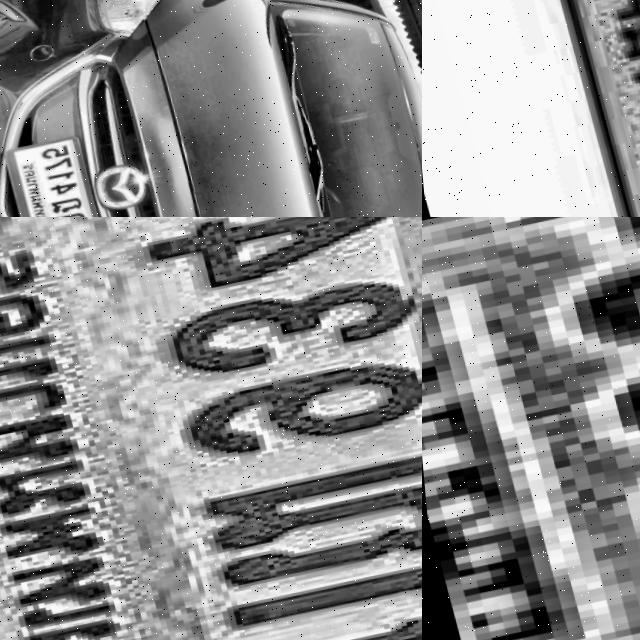license-plate: (0, 217, 422, 640), (422, 217, 640, 640), (526, 0, 640, 217), (0, 132, 103, 217)
